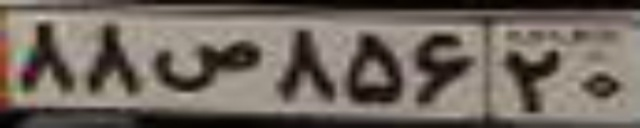0: (576, 72, 620, 99)
2: (502, 47, 562, 113)
5: (342, 33, 403, 104)
6: (411, 33, 471, 104)
8: (16, 20, 77, 93), (276, 29, 336, 102), (85, 22, 142, 96)
saat: (149, 39, 264, 91)
